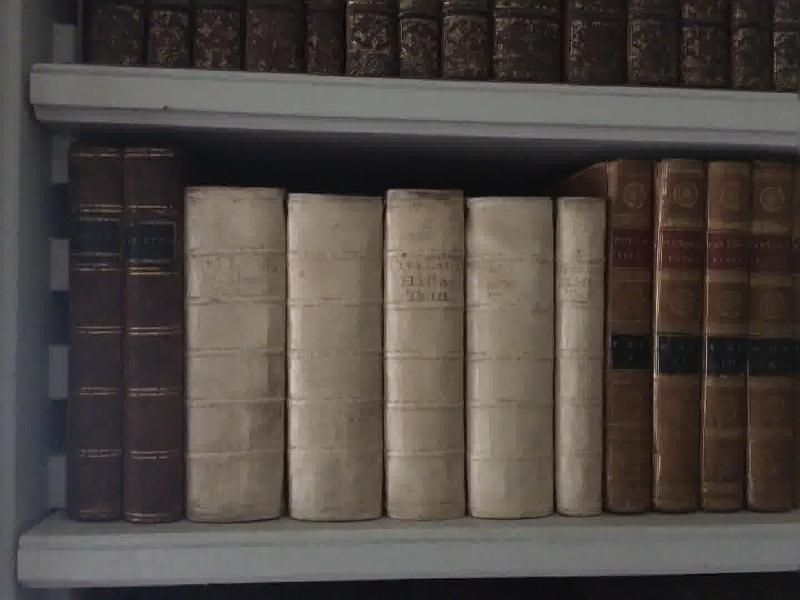Kk4-1_2: (60, 137, 192, 534)
Kk4-3_7: (175, 174, 611, 532)
Kk4-8_13: (602, 157, 800, 524)
